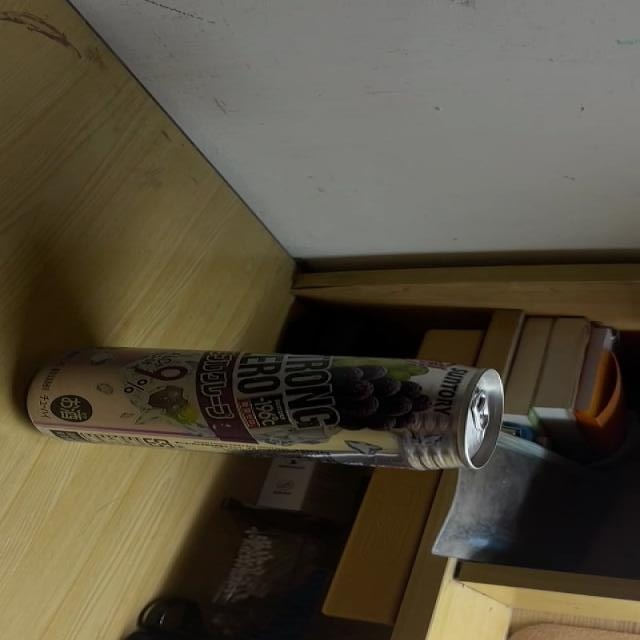Liquor: (24, 348, 503, 470)
